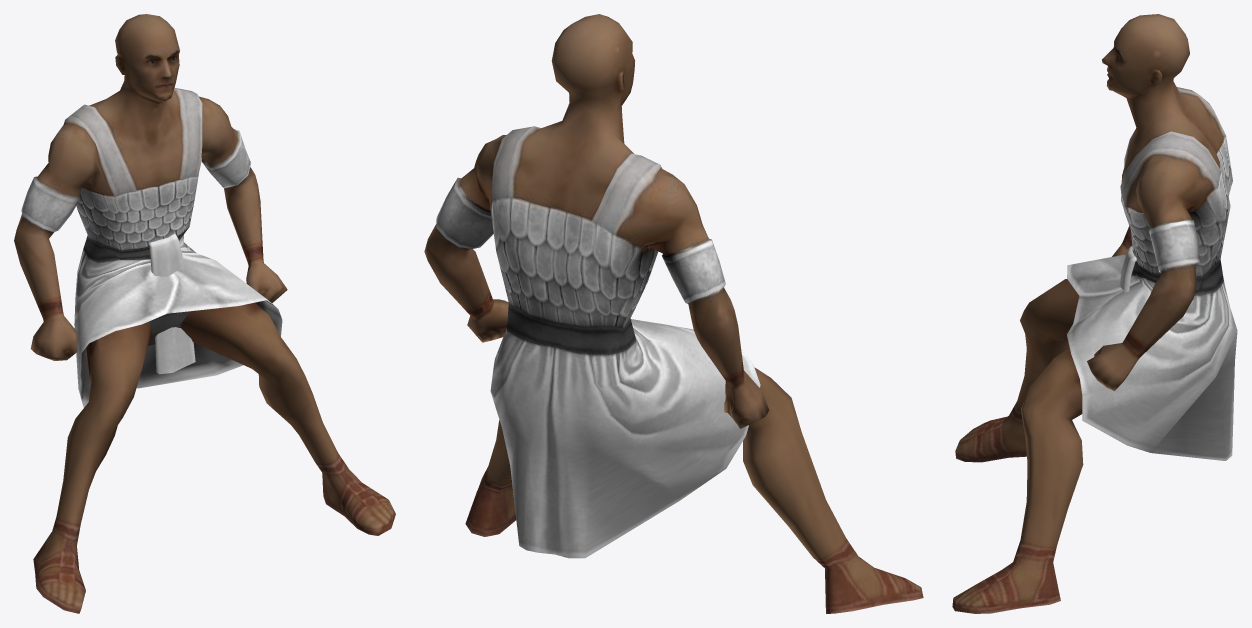
File: rider-slice-heavywarelephants.glb
3 views of the same model, side by side, from view 1: azimuth 30°, elevation 25°; view 2: azimuth 150°, elevation 25°; view 3: azimuth 270°, elevation 25° (orthographic). The views are drawn at different scales.
Bounding box in the file's own units: 1.31 × 1.75 × 0.8585.
1 material, 1 textured.
